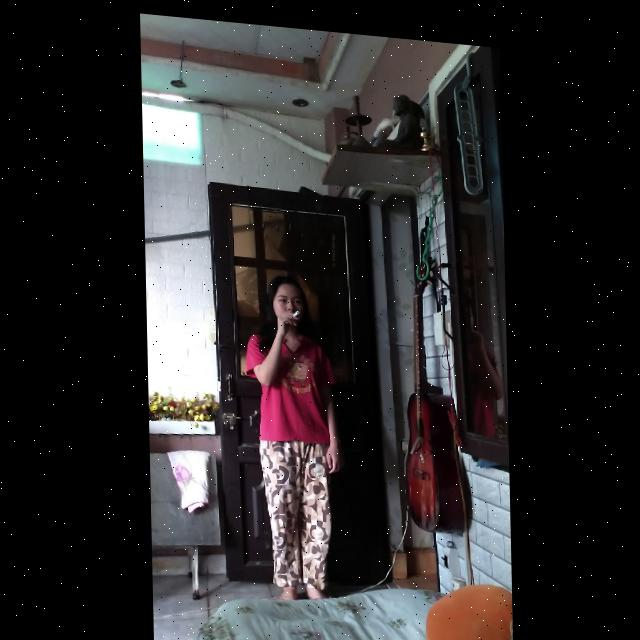cigarette: (291, 304, 299, 312)
